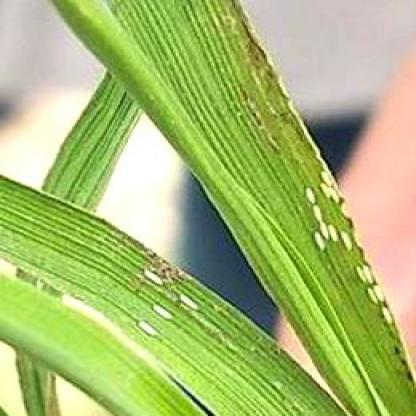whorl-maggot: (173, 288, 208, 314), (144, 258, 167, 293), (150, 299, 179, 324), (304, 226, 328, 255), (318, 184, 342, 210), (359, 285, 388, 306), (135, 317, 160, 340), (314, 165, 339, 188), (353, 266, 374, 288), (303, 204, 330, 221), (339, 228, 356, 255), (299, 183, 315, 204), (378, 310, 399, 326)
